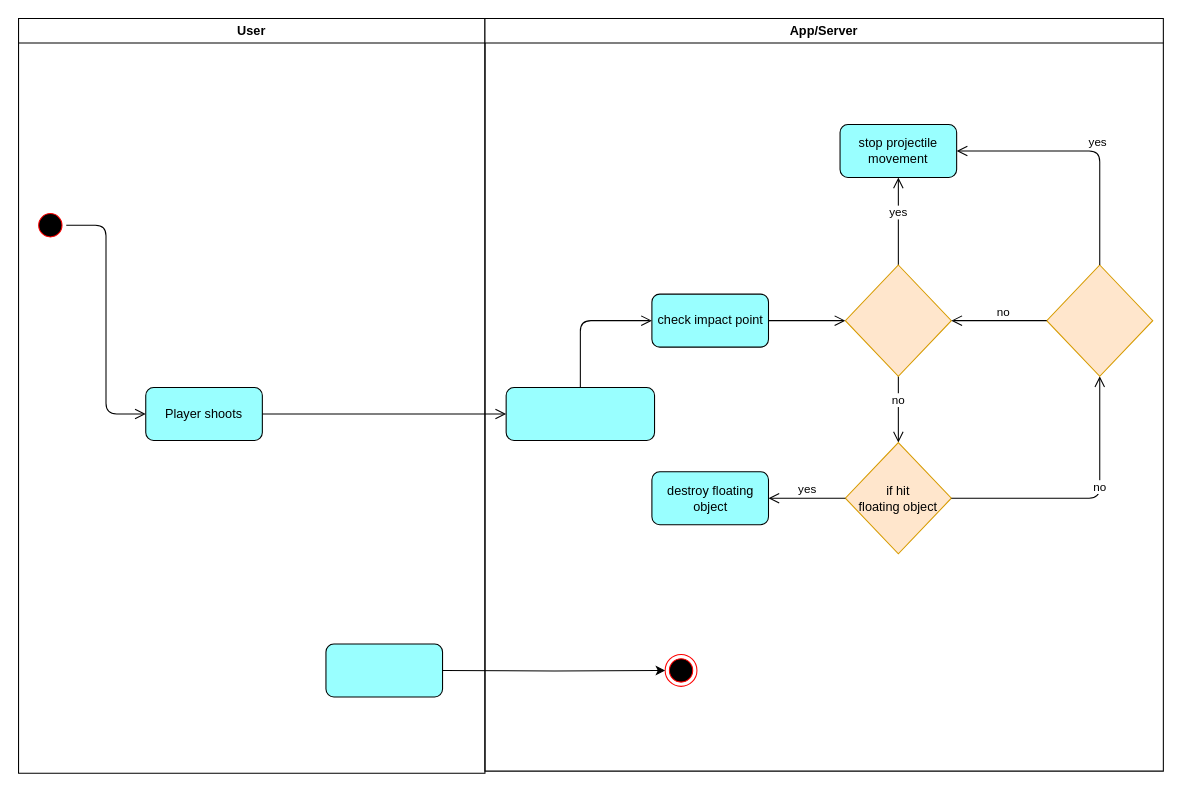
Some shapes in this 1182 by 792 pixel diagram are drawn without their labels. Here are the shapes that lost their labels. From the top down, the centre of each, then its label:
pixel 897 320: if hit firm object
pixel 1099 320: if hit right end of screen
pixel 580 413: projectile moves right/left
pixel 384 670: stop application
